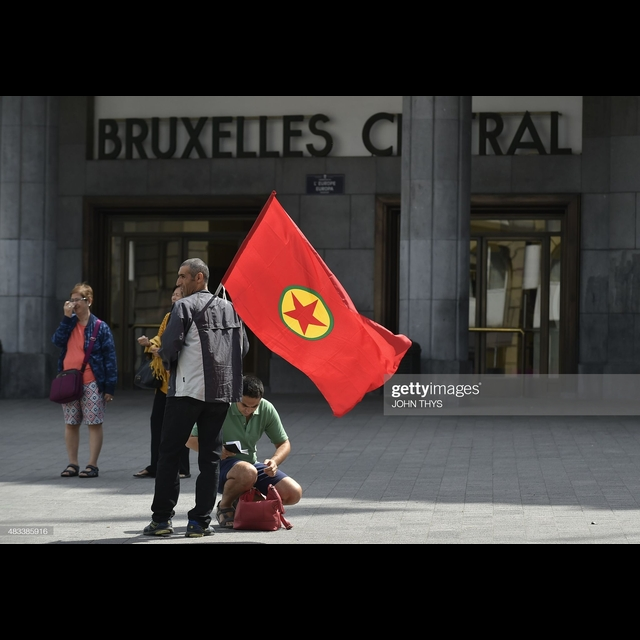PKK: (270, 278, 338, 352)
